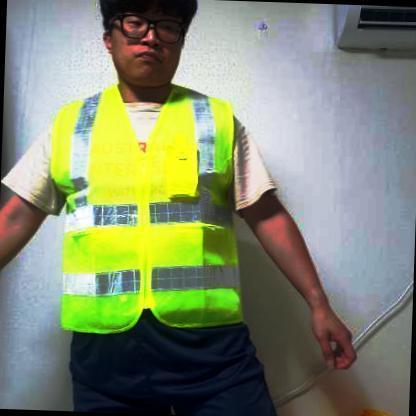no-helmet: (87, 0, 197, 48)
vest: (44, 81, 253, 338)
